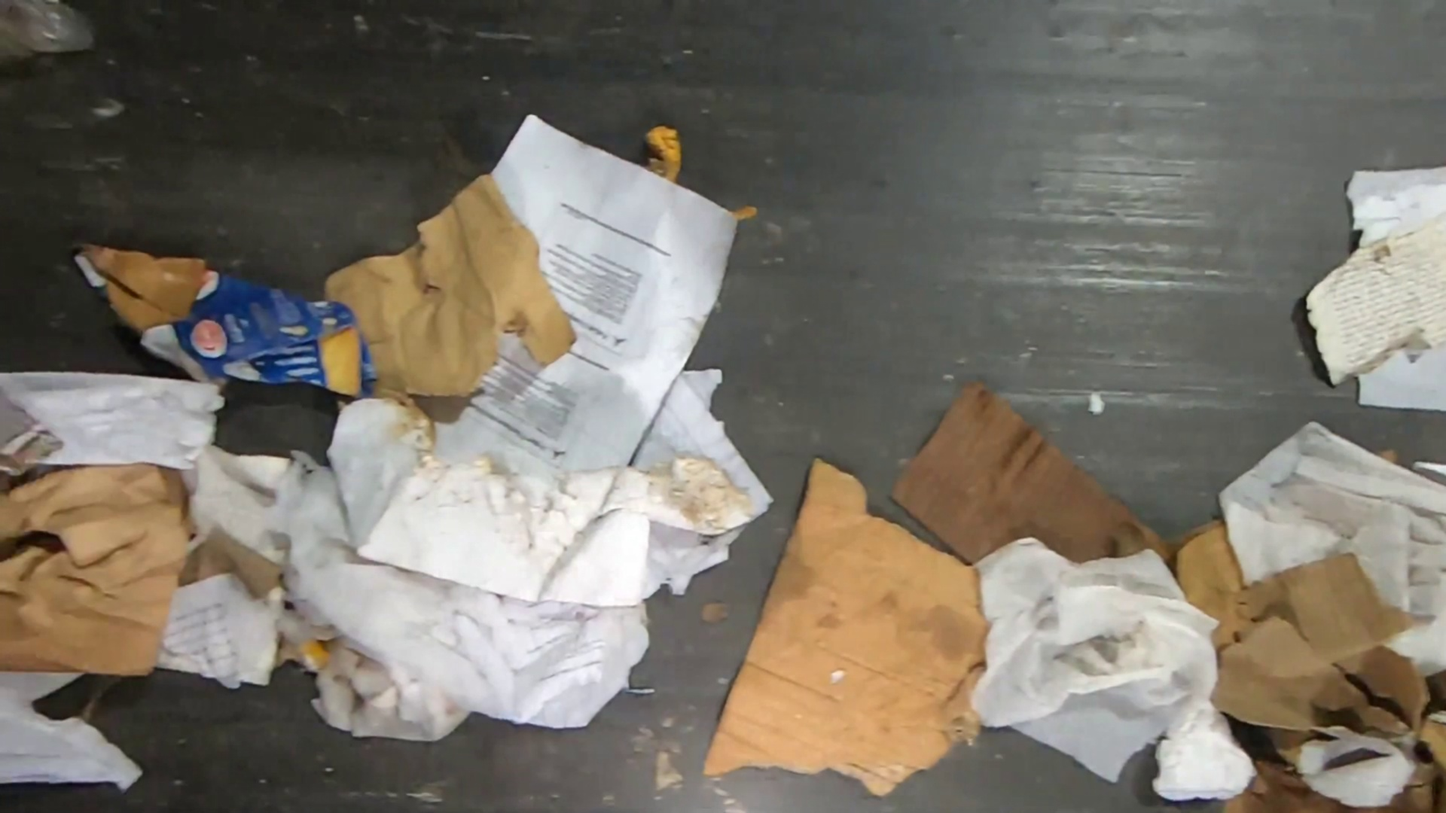cardboard: (321, 173, 759, 608), (699, 457, 994, 797), (1174, 514, 1446, 813), (885, 377, 1178, 583), (70, 240, 381, 401), (1373, 447, 1401, 465)
plastic: (0, 0, 95, 64)
